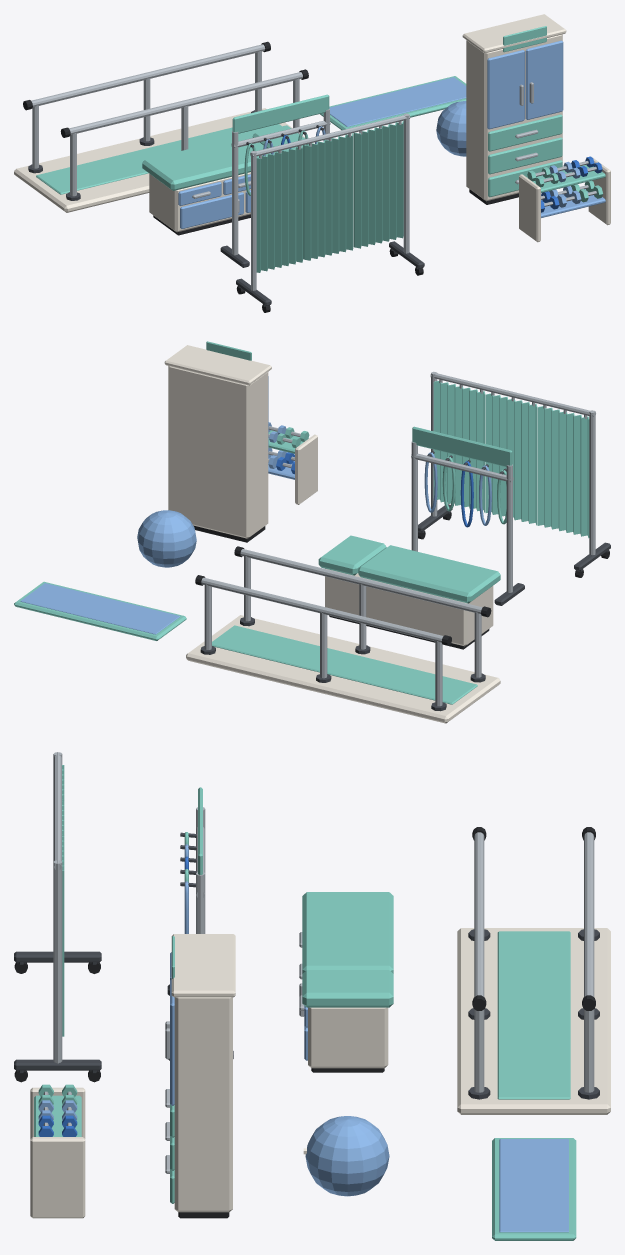
File: physical-therapy-room-set.glb
The picture shows the model from 3 angles, top to bottom: view 1: azimuth 30°, elevation 25°; view 2: azimuth 150°, elevation 25°; view 3: azimuth 270°, elevation 25°; orthographic projection. The views are drawn at different scales.
Parts seen in each view (by area): view 1: PC_Curtain_3, PC_Curtain_2, PC_Curtain_1, SC_Body, PB_Base, PB_WalkStrip, TT_Pad_Body, EM_Panel, SC_Door_R, SC_Door_L, PB_Rail_1, PB_Rail_-1 (+24 smaller); view 2: SC_Body, PB_Base, PC_Curtain_1, PB_WalkStrip, TT_Base, PC_Curtain_2, TT_Pad_Body, PC_Curtain_3, EM_Panel, EB_Ball, SC_Top, PB_Rail_-1 (+14 smaller); view 3: PB_Base, SC_Body, PB_WalkStrip, TT_Pad_Body, EM_Panel, EB_Ball, TT_Base, HW_Side_1.6, SC_Top, TT_Pad_Head, EM_Mat, PC_Post_3.5 (+8 smaller).
Part boxes in pixels (x1,y1,x2,y2): PC_Curtain_3: (353,121,403,248); PC_Curtain_2: (303,133,353,260); PC_Curtain_1: (256,145,303,272); SC_Body: (466,34,562,201); PB_Base: (14,108,313,212); PB_WalkStrip: (36,124,281,194); TT_Pad_Body: (142,134,270,190); EM_Panel: (329,77,466,126); SC_Door_R: (525,40,563,119); SC_Door_L: (487,50,524,129); PB_Rail_1: (31,44,265,107); PB_Rail_-1: (69,72,302,134); SC_Body: (168,366,268,538); PB_Base: (186,615,500,723); PC_Curtain_1: (537,406,589,538); PB_WalkStrip: (212,625,477,704); TT_Base: (325,568,493,646); PC_Curtain_2: (485,393,537,525); TT_Pad_Body: (358,545,500,603); PC_Curtain_3: (433,381,485,512); EM_Panel: (20,583,180,634); EB_Ball: (137,510,196,567); SC_Top: (164,345,271,385); PB_Rail_-1: (240,549,482,614); PB_Base: (457,928,610,1114); SC_Body: (174,997,232,1212); PB_WalkStrip: (497,931,570,1099); TT_Pad_Body: (302,892,393,973); EM_Panel: (499,1139,568,1232); EB_Ball: (305,1116,389,1196); TT_Base: (308,1007,388,1068); HW_Side_1.6: (30,1137,85,1218); SC_Top: (171,934,235,997); TT_Pad_Head: (302,970,393,1007); EM_Mat: (492,1138,576,1240); PC_Post_3.5: (53,860,62,1063).
Size of the model in its own units: 19.74 by 7.3 by 16.33.
